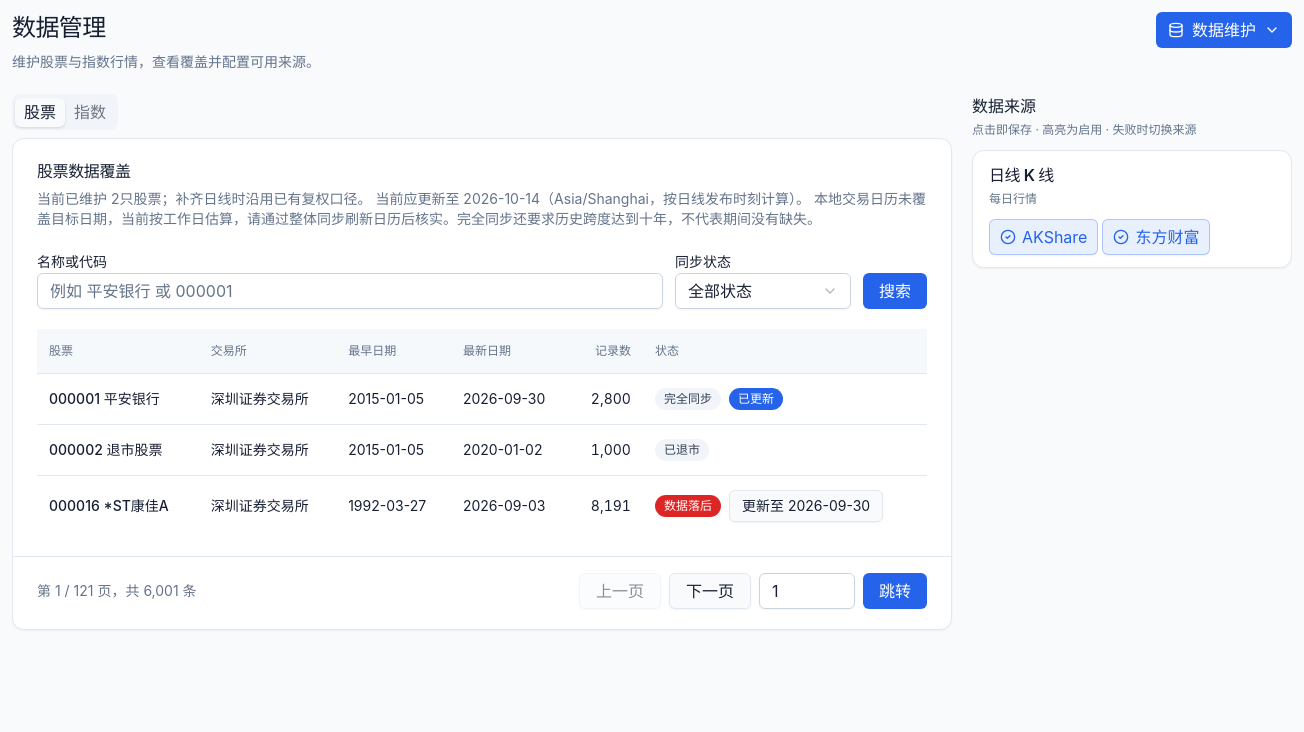
Test: 数据管理主旅程 › 点击更新后持续显示任务结果和来源失败原因
The width and height of the screenshot is (1304, 732).
Click the button "更新至 2026-09-30": (806, 506) [729,490,883,522]
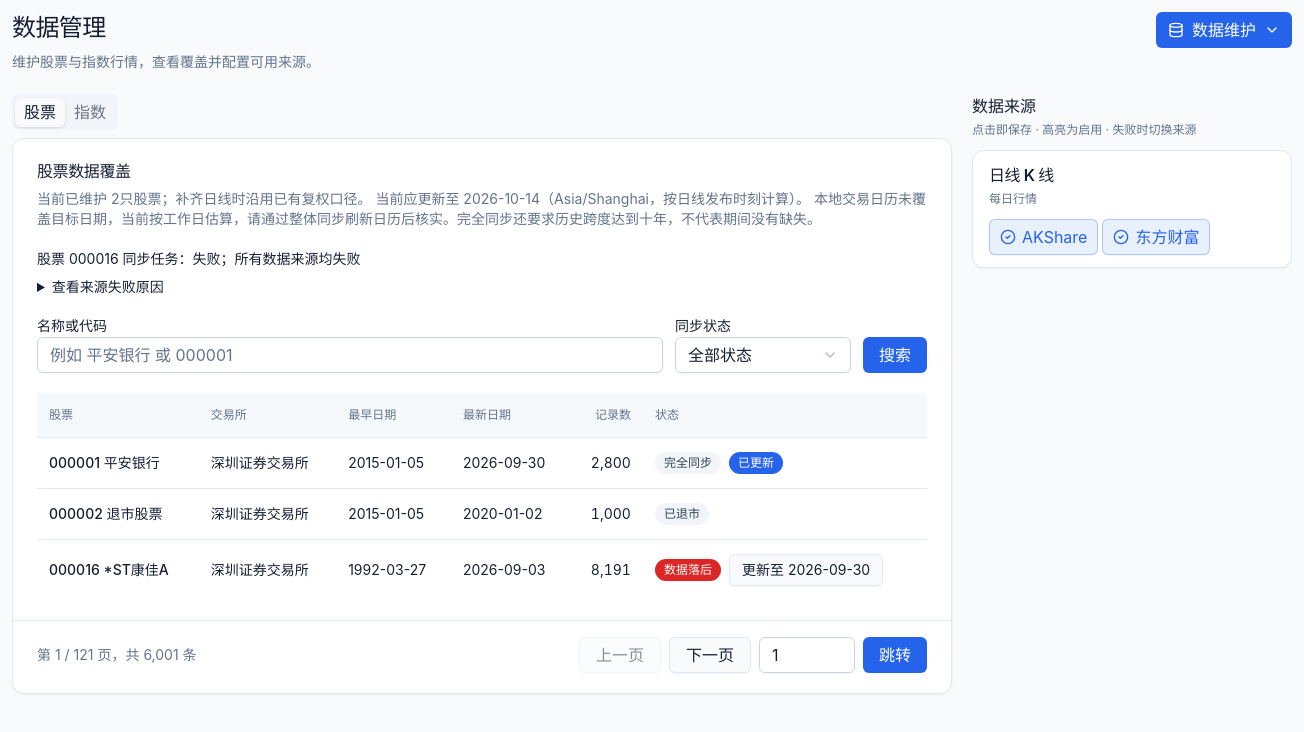
Now the message shows "所有数据来源均失败", box [221,250,361,267]
Click the heading "查看来源失败原因": (108, 286) [52,278,164,295]
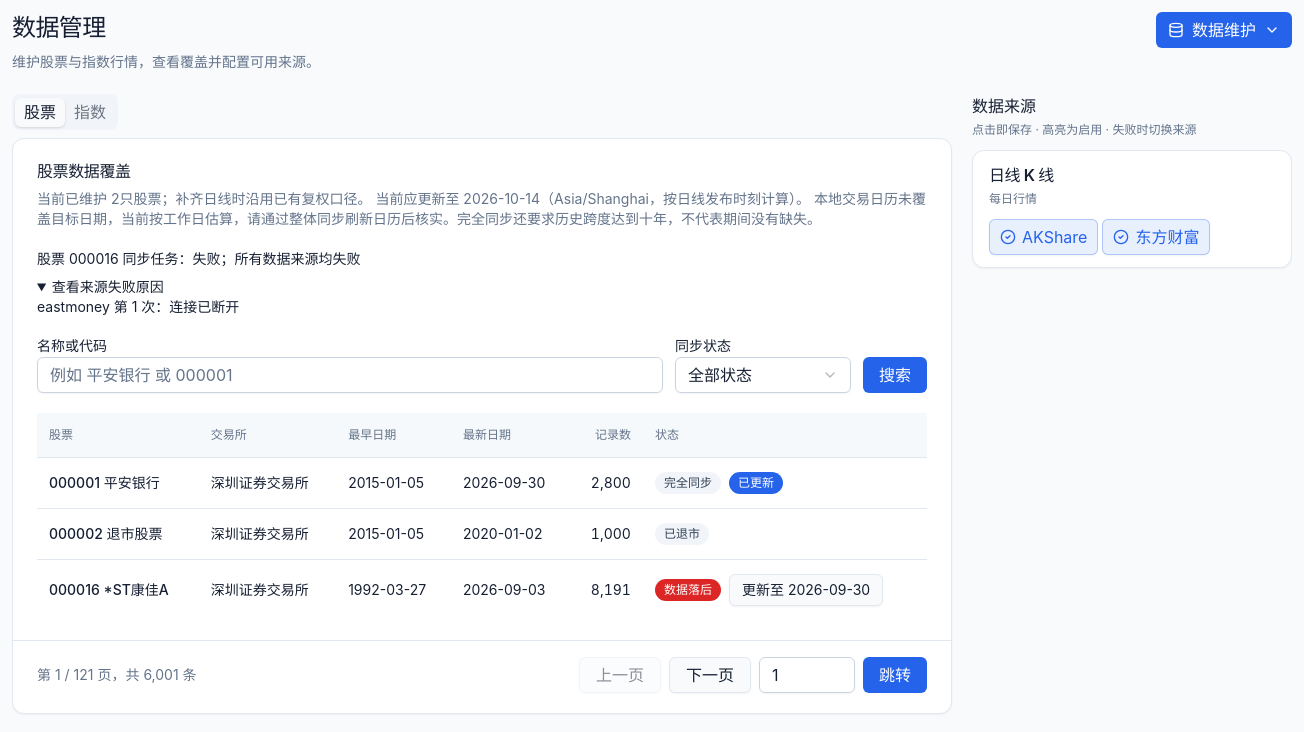
Now the text "eastmoney 第 1 次：连接已断开" is shown, box [37,298,239,315]
